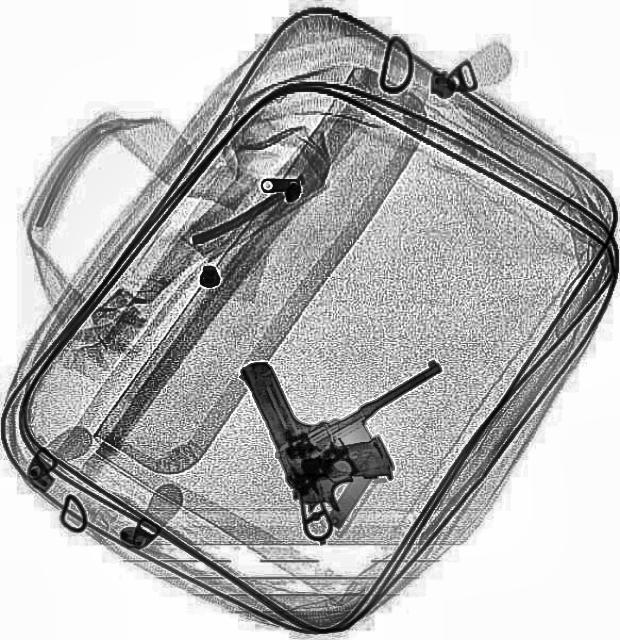Gun: (259, 361, 491, 547), (238, 332, 402, 522)
